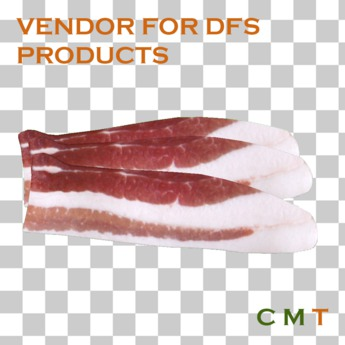bacon: (13, 122, 318, 256)
